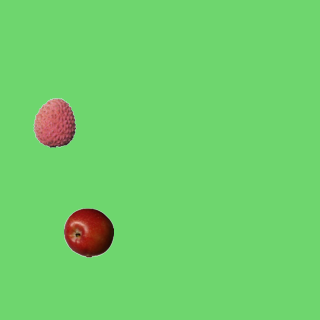Apple Braeburn: (63, 207, 113, 257)
Lychee: (29, 97, 79, 147)
